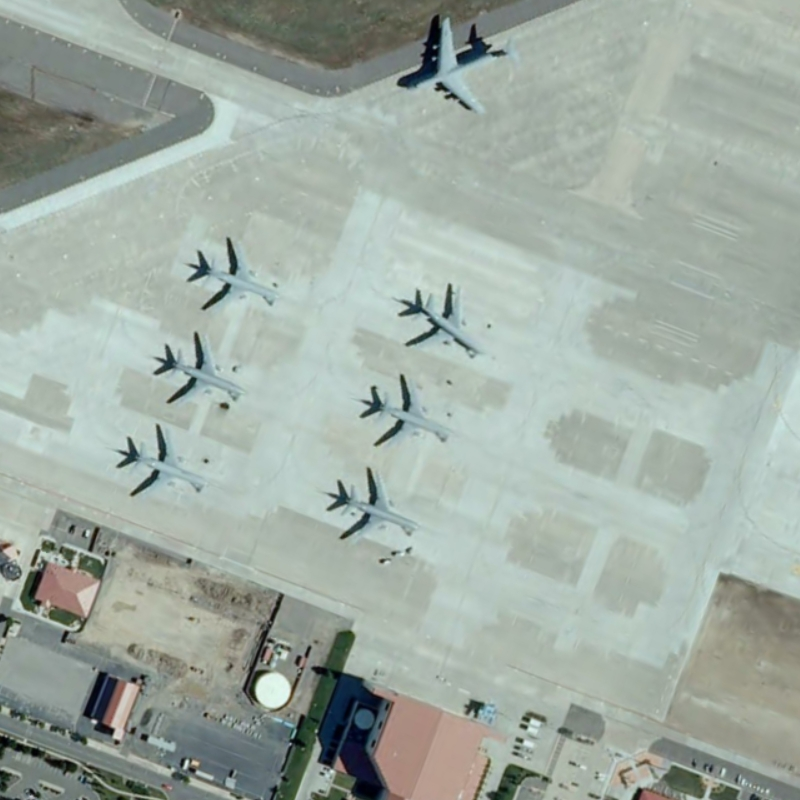A18: (182, 232, 284, 315), (362, 370, 459, 455), (120, 418, 212, 502), (160, 328, 252, 412), (330, 461, 421, 545), (399, 281, 489, 365)
A4: (396, 10, 523, 116)
